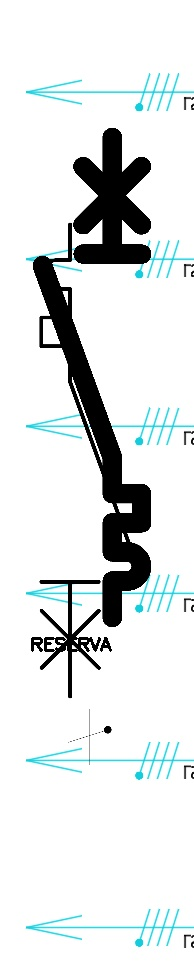interruptor_termomagnetico: (30, 125, 154, 630), (29, 212, 150, 709)
